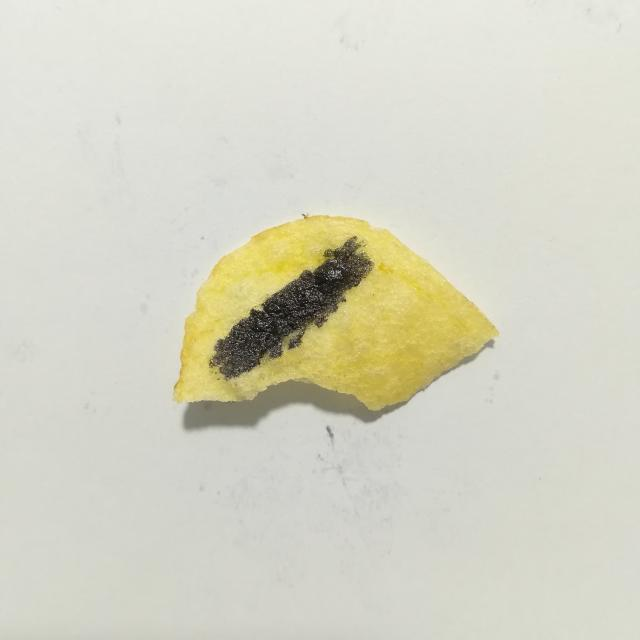chip: (173, 216, 498, 410)
damaged: (211, 237, 372, 379)
